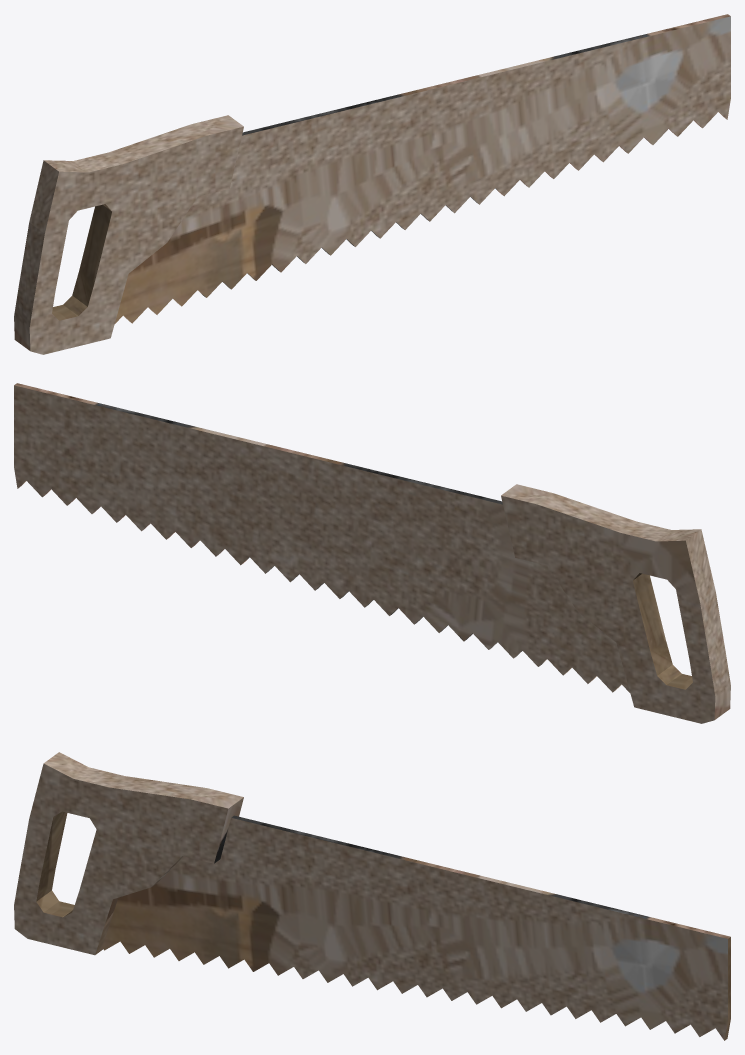
Rendered from serrucho.fbx.
3 renders of one model, top to bottom at view 1: azimuth 30°, elevation 25°; view 2: azimuth 150°, elevation 25°; view 3: azimuth 330°, elevation 25°, orthographic.
Visible parts, largest first — view 1: Saw_LOD0; view 2: Saw_LOD0; view 3: Saw_LOD0.
Part boxes in pixels (x1,y1,x2,y2): Saw_LOD0: (14, 14, 730, 354); Saw_LOD0: (14, 383, 730, 723); Saw_LOD0: (14, 752, 730, 1040).
Size of what is drawn, in the model's own units: 56.16 by 13.59 by 2.15.
